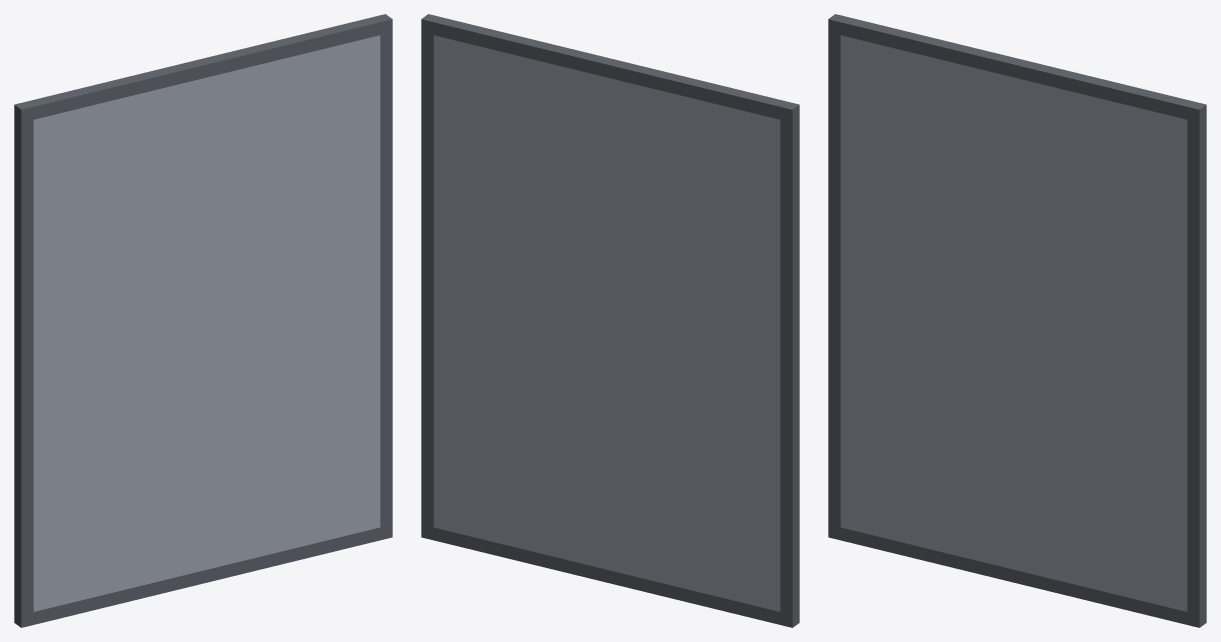
Rendered from separator.obj.
The picture shows the model from 3 angles, left to right: view 1: azimuth 30°, elevation 25°; view 2: azimuth 150°, elevation 25°; view 3: azimuth 330°, elevation 25°; orthographic projection.
Bounding box in the file's own units: 3 × 4 × 0.1.
Materials: 1 (1 with a texture image).
